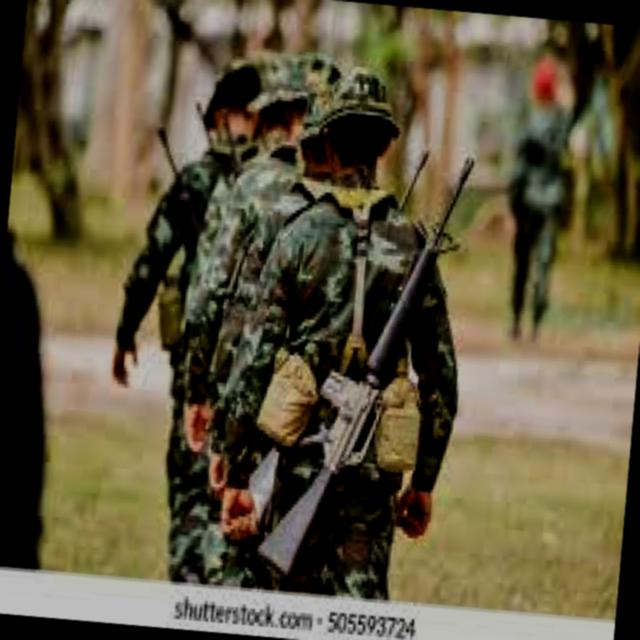m16: (225, 129, 488, 586)
